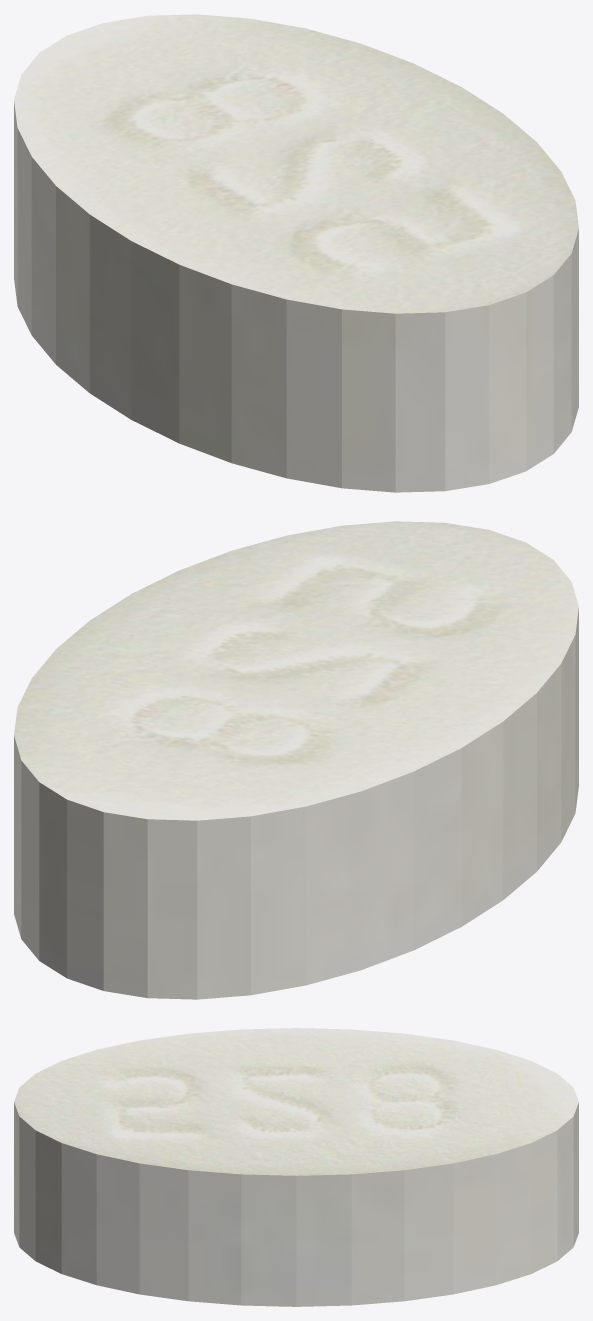
The picture shows the model from 3 angles, top to bottom: view 1: azimuth 30°, elevation 25°; view 2: azimuth 150°, elevation 25°; view 3: azimuth 270°, elevation 25°; orthographic projection. The views are drawn at different scales.
Visible parts, largest first — view 1: 圓柱體; view 2: 圓柱體; view 3: 圓柱體.
Part boxes in pixels (x1,y1,x2,y2): 圓柱體: (14,14,578,492); 圓柱體: (14,521,578,999); 圓柱體: (14,1028,578,1306).
Bounding box in the file's own units: 0.0809 × 0.0335 × 0.1307.
Materials: 1 (1 with a texture image).
